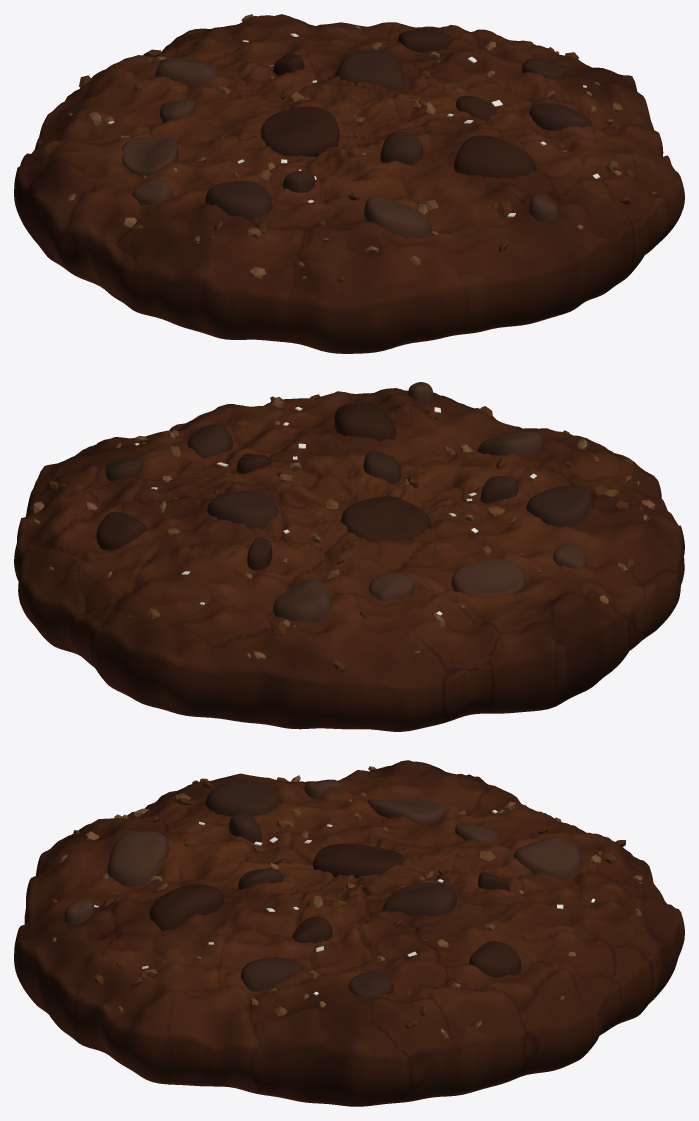
File: smule-cookie-chocolate.glb
3 renders of one model, top to bottom at view 1: azimuth 30°, elevation 25°; view 2: azimuth 150°, elevation 25°; view 3: azimuth 270°, elevation 25°, orthographic. The views are drawn at different scales.
Parts seen in each view (by area): view 1: Dough_BakedSurface, Chocolate_Detail, Crumbs_Detail; view 2: Dough_BakedSurface, Chocolate_Detail, Crumbs_Detail; view 3: Dough_BakedSurface, Chocolate_Detail, Crumbs_Detail.
Boxes of the visible parts, <box> form: Dough_BakedSurface: <box>14,14,684,353</box>; Chocolate_Detail: <box>121,30,591,238</box>; Crumbs_Detail: <box>67,14,656,282</box>; Dough_BakedSurface: <box>14,388,684,731</box>; Chocolate_Detail: <box>96,382,594,621</box>; Crumbs_Detail: <box>31,394,655,671</box>; Dough_BakedSurface: <box>14,760,684,1106</box>; Chocolate_Detail: <box>64,779,581,998</box>; Crumbs_Detail: <box>49,766,644,1039</box>.
Size of the model in its own units: 4.99 by 0.9583 by 4.98.
9 materials, 2 textured.
